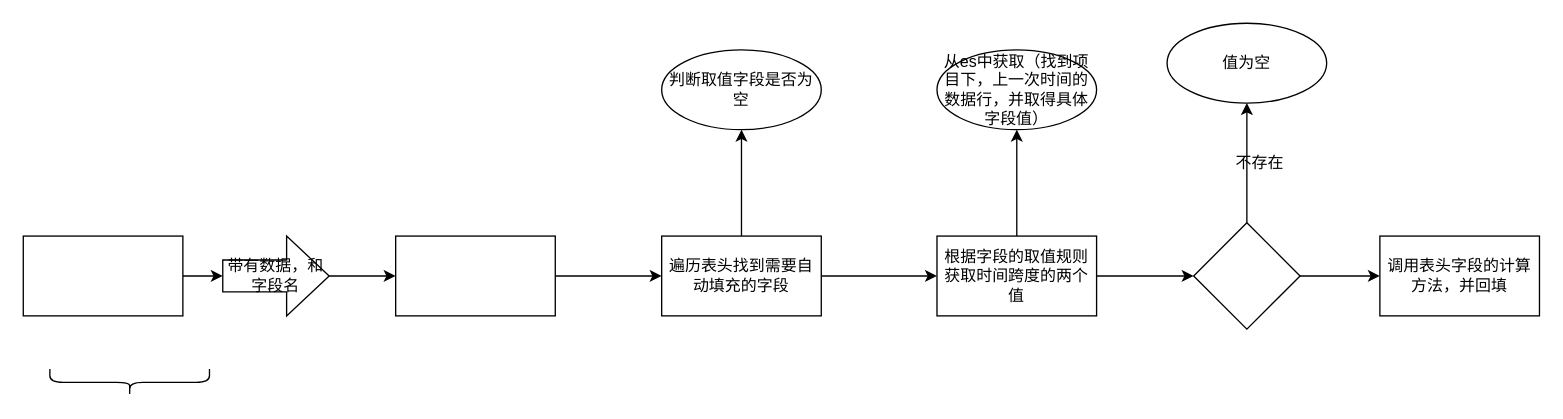
This 1563x419 diagram has some shape labels left out. Here are the shapes that lost their labels. From the top down, the centre of each, then its label:
At point 102,275: "导入数据".
At point 474,275: "从数据库获取项目表头".
At point 1246,275: "是否存在".
